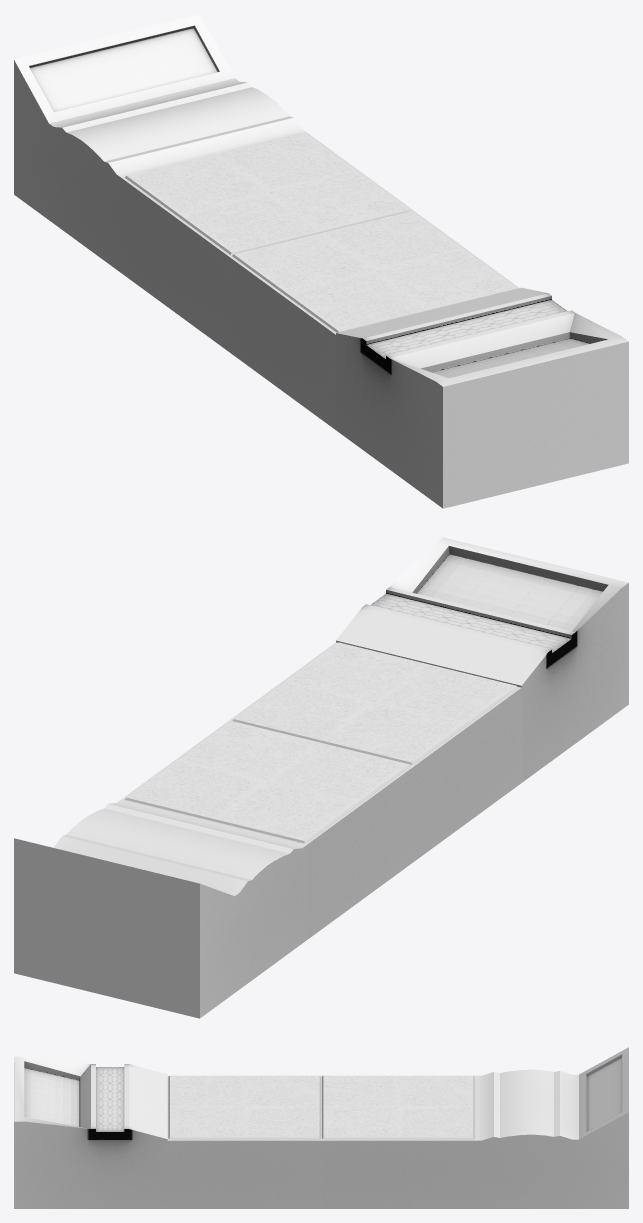
Rendered from WallSolid_1_2.fbx.
3 views of the same model, one above another, from view 1: azimuth 30°, elevation 25°; view 2: azimuth 150°, elevation 25°; view 3: azimuth 270°, elevation 25° (orthographic). The views are drawn at different scales.
Parts seen in each view (by area): view 1: Wall_solid_1_2; view 2: Wall_solid_1_2; view 3: Wall_solid_1_2.
Part boxes in pixels (<box>): Wall_solid_1_2: <box>14,14,628,508</box>; Wall_solid_1_2: <box>14,537,628,1018</box>; Wall_solid_1_2: <box>14,1047,628,1208</box>.
Size of the model in its own units: 1 by 0.6947 by 4.
